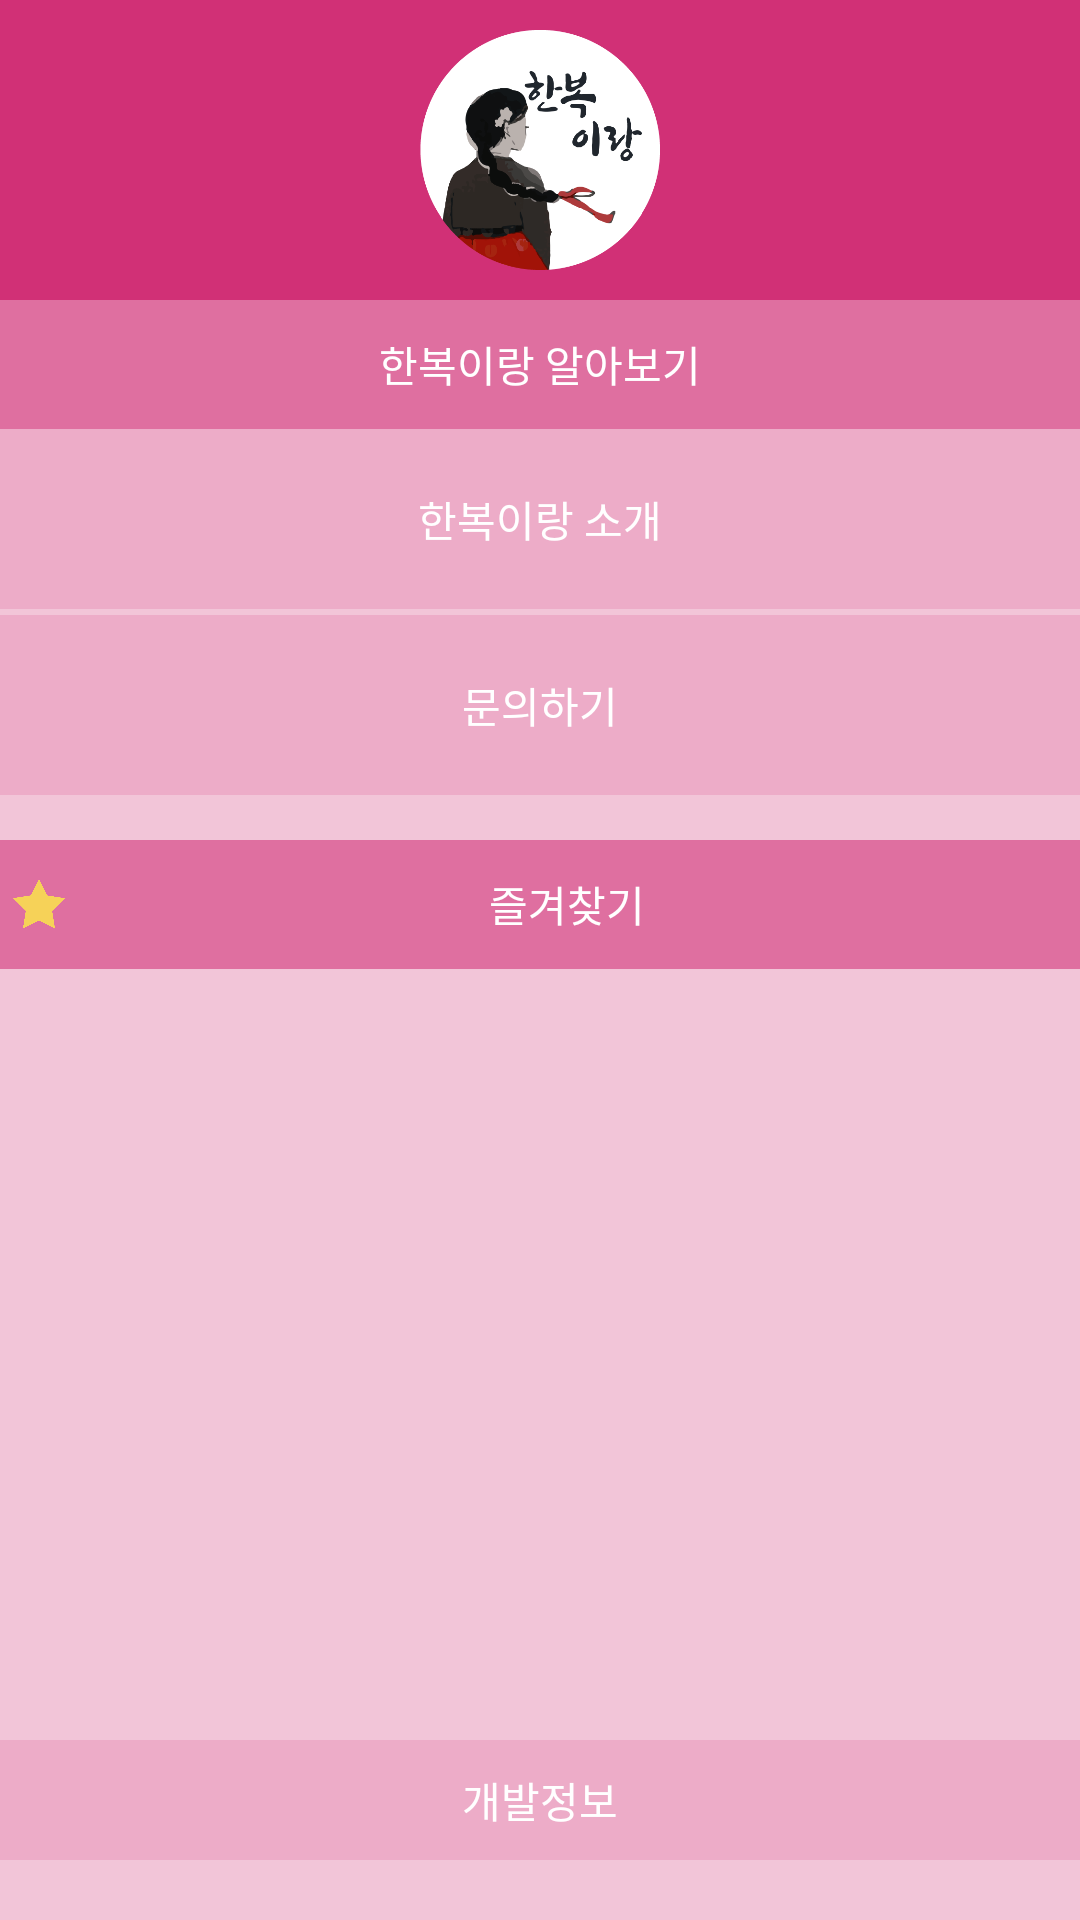

Where icons sit on this 1080 x 1920 app screen, as (x1, y1, x2, y2):
star on: (13, 880, 65, 928)
